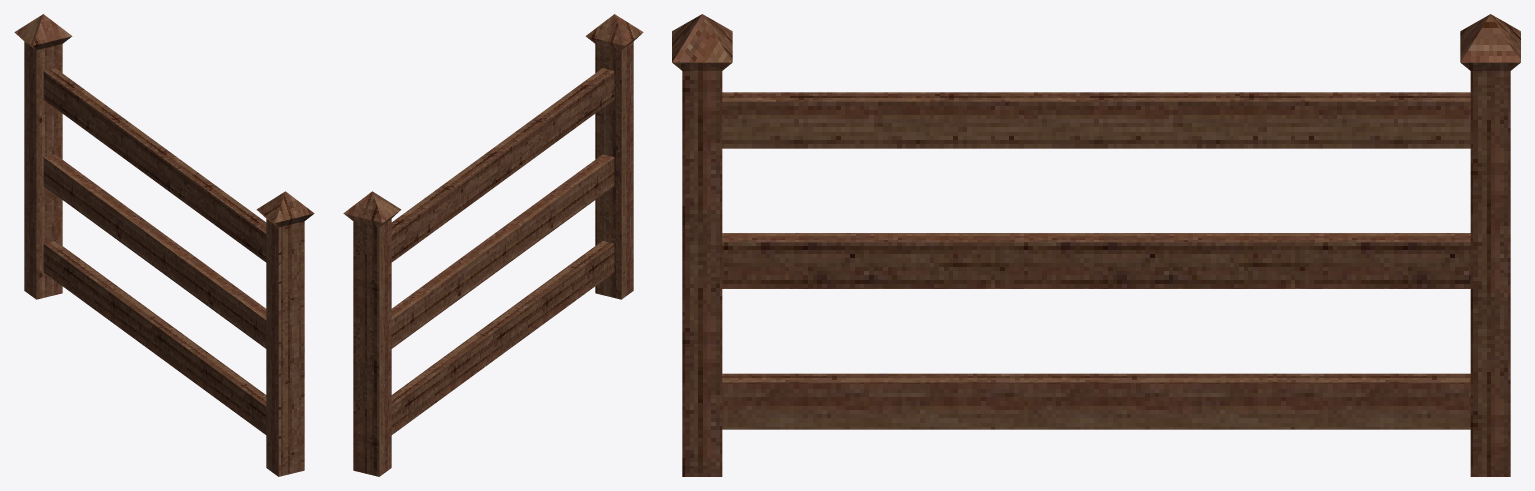
The model's file is LowPolyFences.fbx.
The picture shows the model from 3 angles, left to right: view 1: azimuth 30°, elevation 25°; view 2: azimuth 150°, elevation 25°; view 3: azimuth 270°, elevation 25°; orthographic projection. The views are drawn at different scales.
Parts seen in each view (by area): view 1: Fence; view 2: Fence; view 3: Fence.
Boxes of the visible parts, left/top/right/bottom form: Fence: left=14, top=14, right=314, bottom=476; Fence: left=343, top=14, right=643, bottom=476; Fence: left=672, top=14, right=1520, bottom=476.
Bounding box in the file's own units: 33.82 × 227 × 385.
